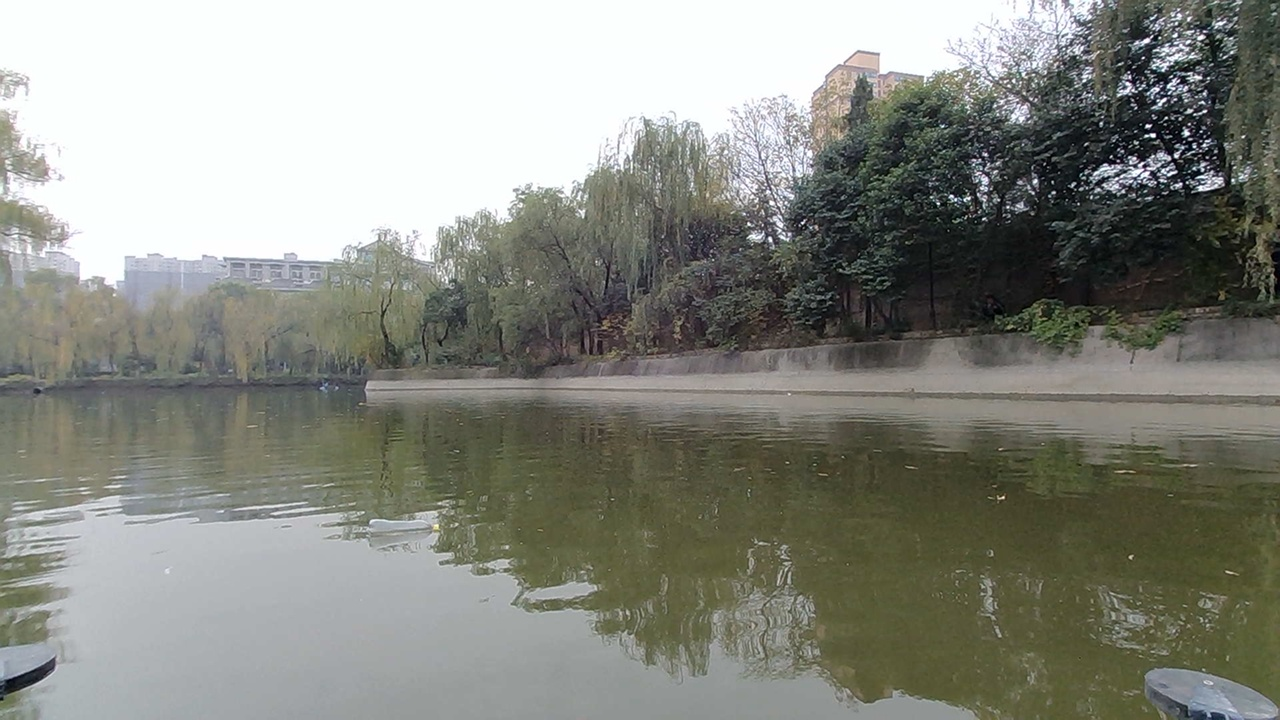bottle: (344, 500, 445, 561)
